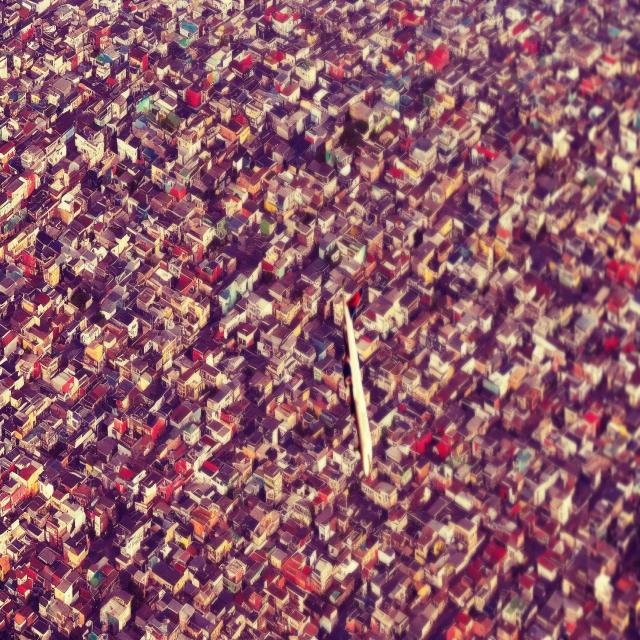airplane: (339, 285, 374, 478)
